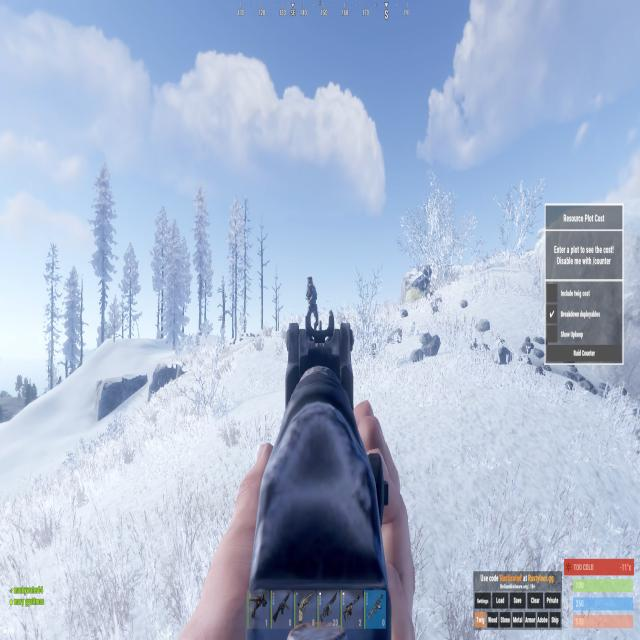Player: (305, 276, 319, 332)
